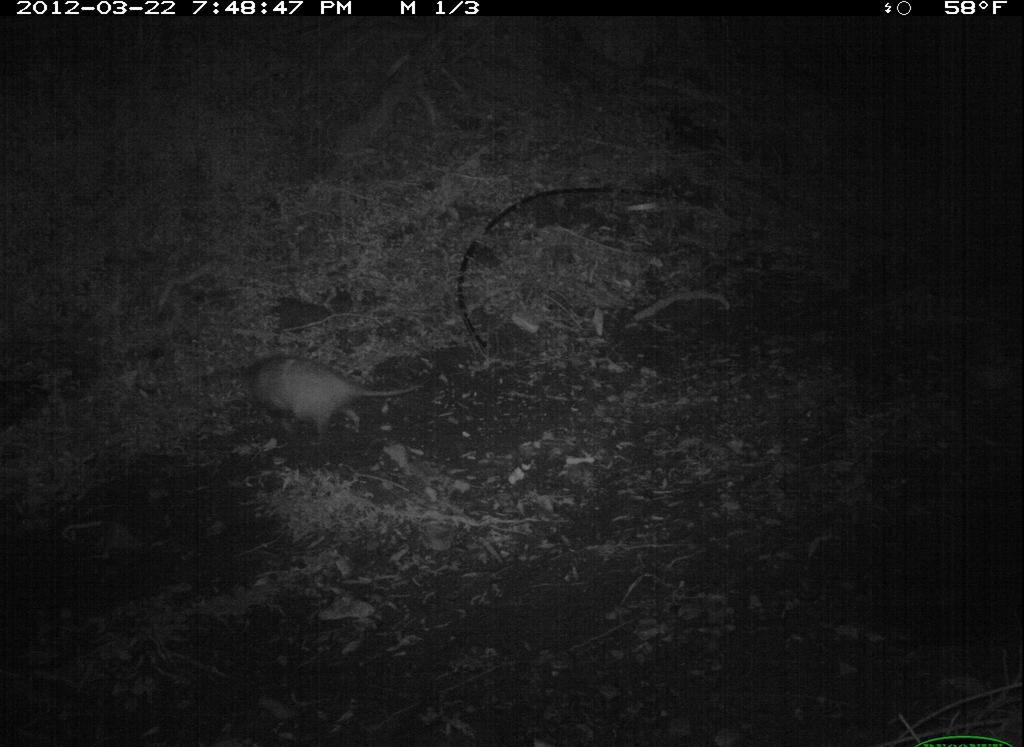opossum: (236, 340, 428, 450)
